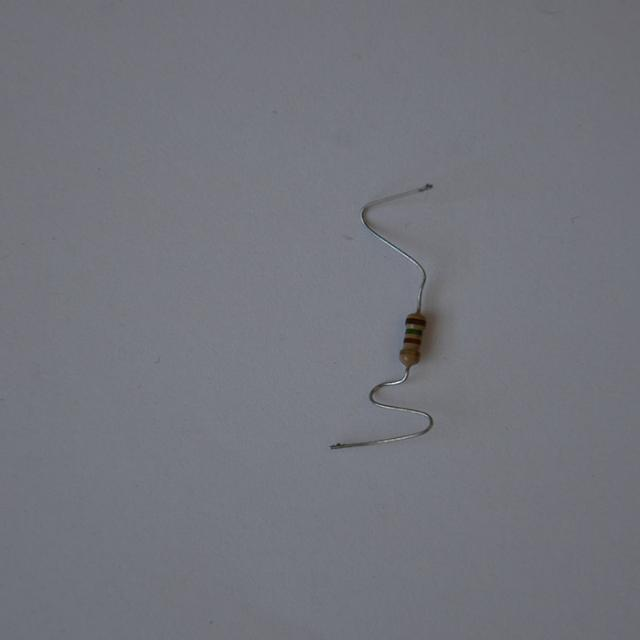brown: (404, 337, 420, 344), (406, 318, 424, 324)
gold: (401, 349, 418, 356)
green: (405, 329, 422, 334)
resistor: (392, 307, 433, 370)
